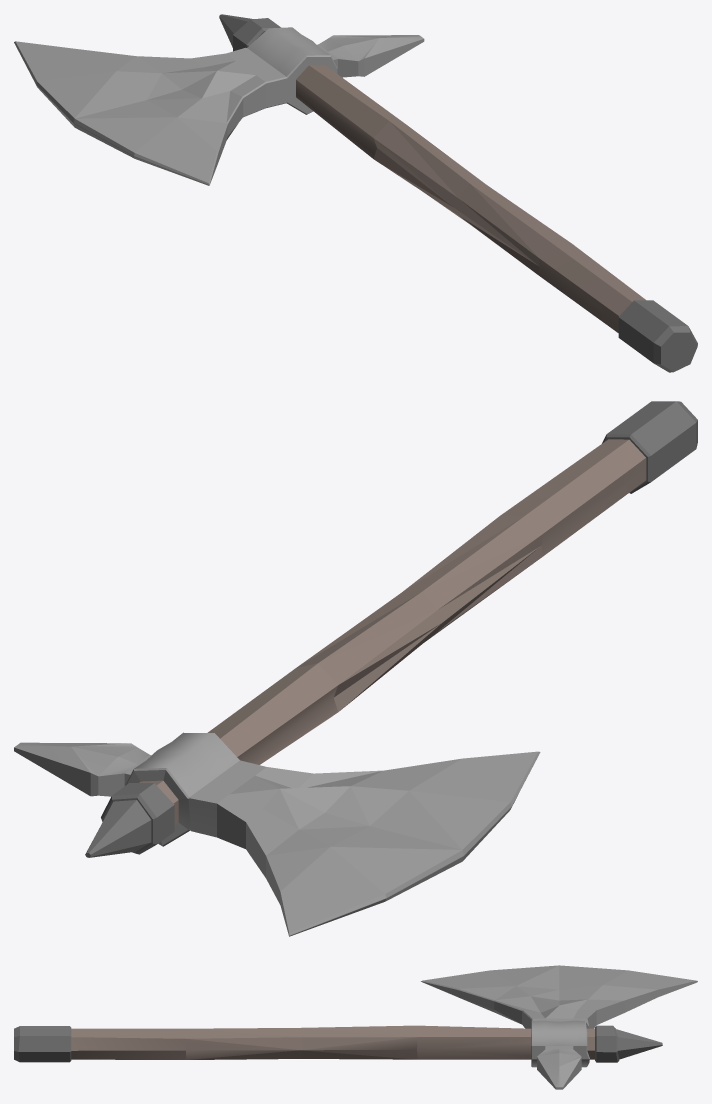
The model's file is hache.fbx.
The picture shows the model from 3 angles, top to bottom: view 1: azimuth 30°, elevation 25°; view 2: azimuth 150°, elevation 25°; view 3: azimuth 270°, elevation 25°; orthographic projection. The views are drawn at different scales.
Parts seen in each view (by area): view 1: hache_lancer; view 2: hache_lancer; view 3: hache_lancer.
Part boxes in pixels (x1=…): hache_lancer: x1=14, y1=14, x2=697, y2=372; hache_lancer: x1=14, y1=401, x2=697, y2=936; hache_lancer: x1=14, y1=965, x2=697, y2=1089.
Size of the model in its own units: 0.5953 by 0.0982 by 1.43.
